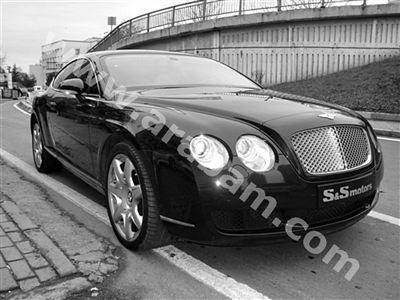car: (28, 50, 389, 255)
